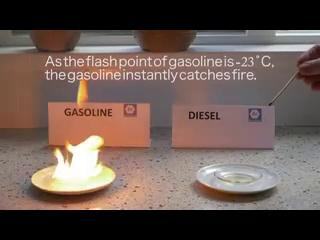Fire: (49, 130, 105, 189)
